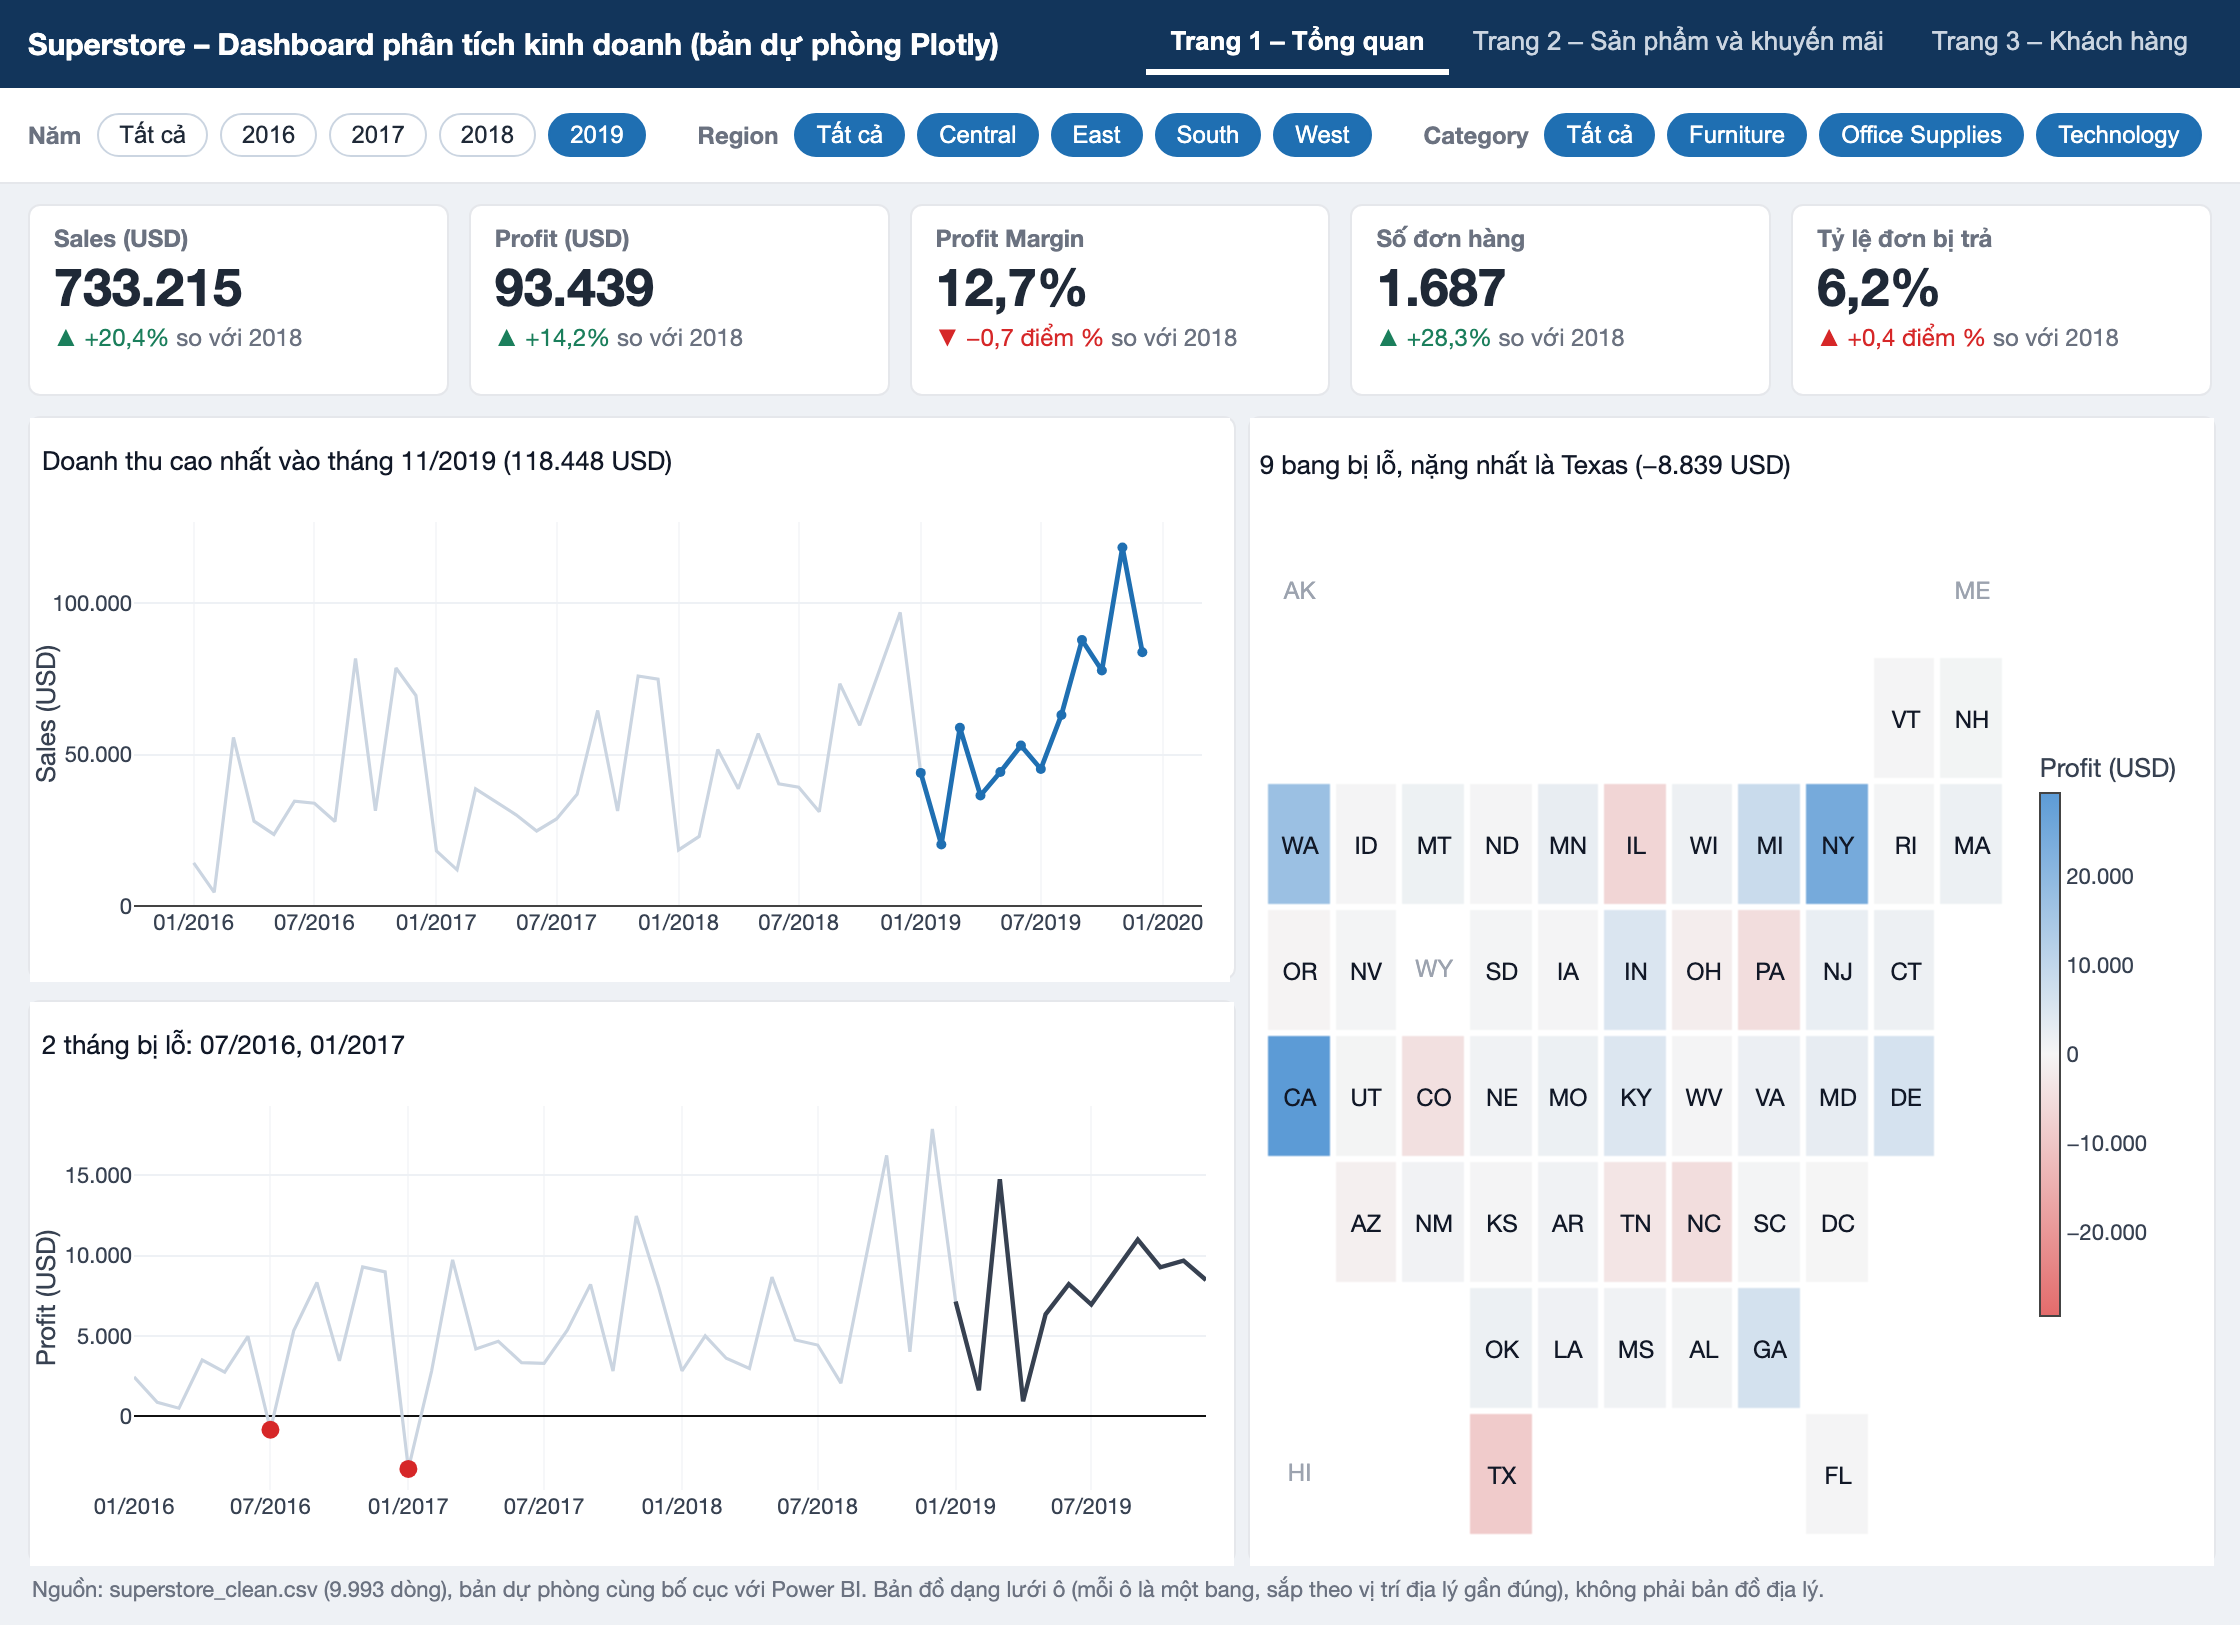

The page's visual inventory and layout, read from the dashboard file:
{"tool":"tableau","page":{"name":"Trang 1 - Tong quan","canvas":[1280,720],"ordinal":0},"visuals":[{"type":"parameter","param":"[Parameters].[Parameter 3607415047954432]","box":[16,8,200,44]},{"type":"filter","title":"Bản đồ bang","param":"[federated.1uwefz30ha1kz11gx3cue1jap6an].[none:Category:nk]","box":[232,8,300,58]},{"type":"filter","title":"Bản đồ bang","param":"[federated.1uwefz30ha1kz11gx3cue1jap6an].[none:Region:nk]","box":[548,8,300,44]},{"type":"worksheet","title":"KPI Sales","mark":"Automatic","box":[16,60,240,110]},{"type":"worksheet","title":"KPI Profit","mark":"Automatic","box":[268,60,240,110]},{"type":"worksheet","title":"KPI Margin","mark":"Automatic","box":[520,60,240,110]},{"type":"worksheet","title":"KPI Orders","mark":"Automatic","box":[772,60,240,110]},{"type":"worksheet","title":"KPI Return Rate","mark":"Automatic","box":[1024,60,240,110]},{"type":"worksheet","title":"Sales theo tháng","mark":"Line","rows":["Sales"],"cols":["Date"],"box":[16,182,618,260]},{"type":"worksheet","title":"Profit theo tháng","mark":"Line","rows":["Profit"],"cols":["Date"],"box":[646,182,618,260]},{"type":"legend","title":"Bản đồ bang","param":"[federated.1uwefz30ha1kz11gx3cue1jap6an].[sum:Profit:qk]","box":[375,442,140,76]},{"type":"worksheet","title":"Bản đồ bang","mark":"Multipolygon","box":[16,454,1248,258]}]}

Visuals, with their boxes on the page's 1280x720 design canvas (x1, y1, x2, y2). These are canvas units, not pixel positions in the 2240x1625 screenshot, which may show the page scaled, cropped or inside an application window:
parameter: {"left": 16, "top": 8, "right": 216, "bottom": 52}
"Bản đồ bang" filter: {"left": 232, "top": 8, "right": 532, "bottom": 66}
"Bản đồ bang" filter: {"left": 548, "top": 8, "right": 848, "bottom": 52}
"KPI Sales" worksheet: {"left": 16, "top": 60, "right": 256, "bottom": 170}
"KPI Profit" worksheet: {"left": 268, "top": 60, "right": 508, "bottom": 170}
"KPI Margin" worksheet: {"left": 520, "top": 60, "right": 760, "bottom": 170}
"KPI Orders" worksheet: {"left": 772, "top": 60, "right": 1012, "bottom": 170}
"KPI Return Rate" worksheet: {"left": 1024, "top": 60, "right": 1264, "bottom": 170}
"Sales theo tháng" worksheet (Line marks): {"left": 16, "top": 182, "right": 634, "bottom": 442}
"Profit theo tháng" worksheet (Line marks): {"left": 646, "top": 182, "right": 1264, "bottom": 442}
"Bản đồ bang" legend: {"left": 375, "top": 442, "right": 515, "bottom": 518}
"Bản đồ bang" worksheet (Multipolygon marks): {"left": 16, "top": 454, "right": 1264, "bottom": 712}
